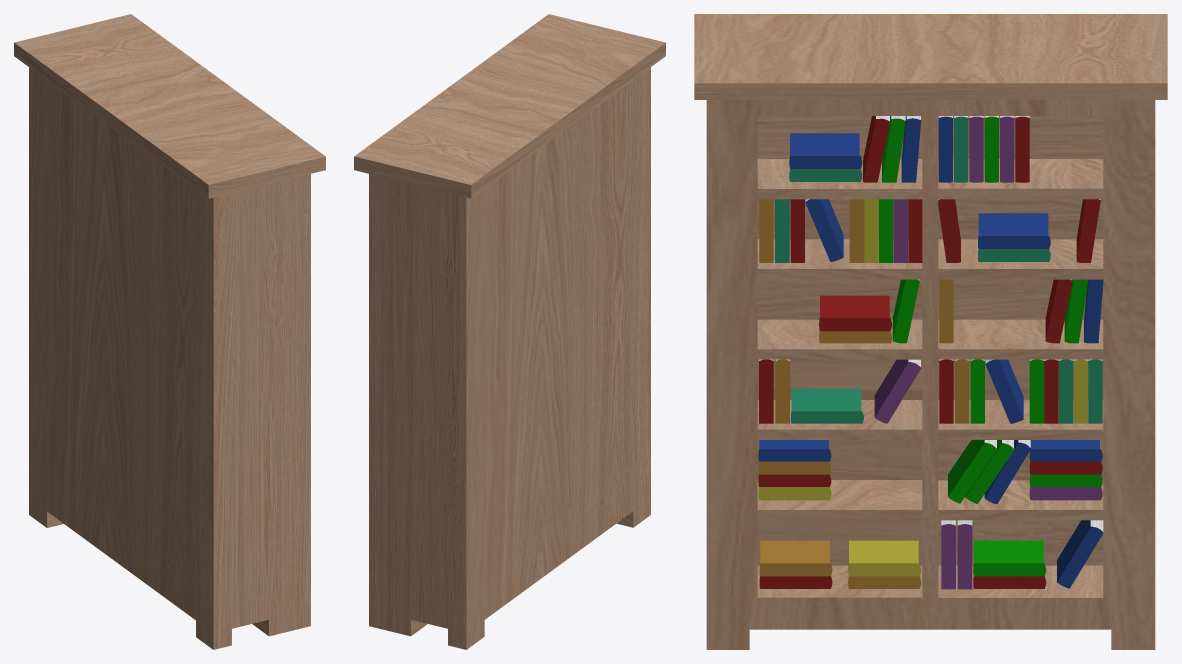
Rendered from rak.glb.
3 views of the same model, side by side, from view 1: azimuth 30°, elevation 25°; view 2: azimuth 150°, elevation 25°; view 3: azimuth 270°, elevation 25° (orthographic). The views are drawn at different scales.
Parts seen in each view (by area): view 1: Cube.112; view 2: Cube.112; view 3: Cube.112.
Part boxes in pixels (x1=…): Cube.112: x1=14, y1=14, x2=325, y2=649; Cube.112: x1=354, y1=14, x2=665, y2=649; Cube.112: x1=694, y1=14, x2=1167, y2=649.
Bounding box in the file's own units: 2.57 × 9.88 × 7.4.
Materials: 10 (1 with a texture image).
